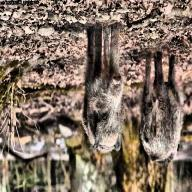boar: (70, 20, 144, 154)
